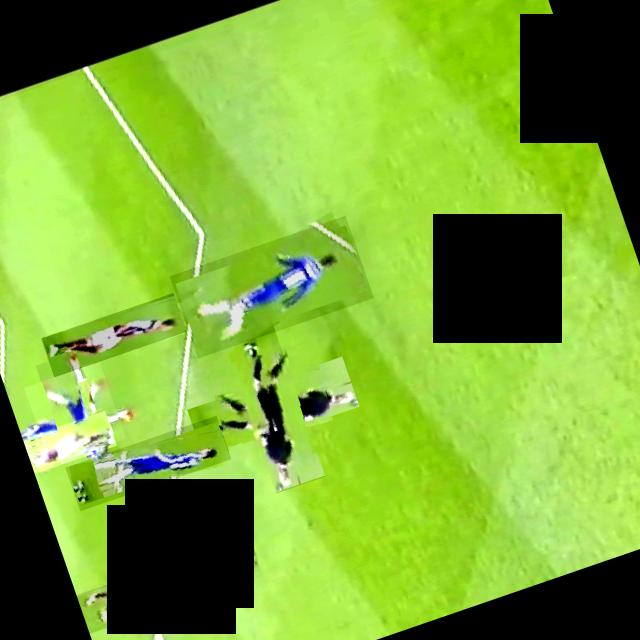referee: (201, 334, 345, 478)
soccer-player: (169, 214, 373, 357), (65, 414, 231, 510), (111, 520, 263, 620), (40, 292, 186, 376), (24, 360, 126, 463), (22, 409, 116, 472), (76, 582, 120, 632)
